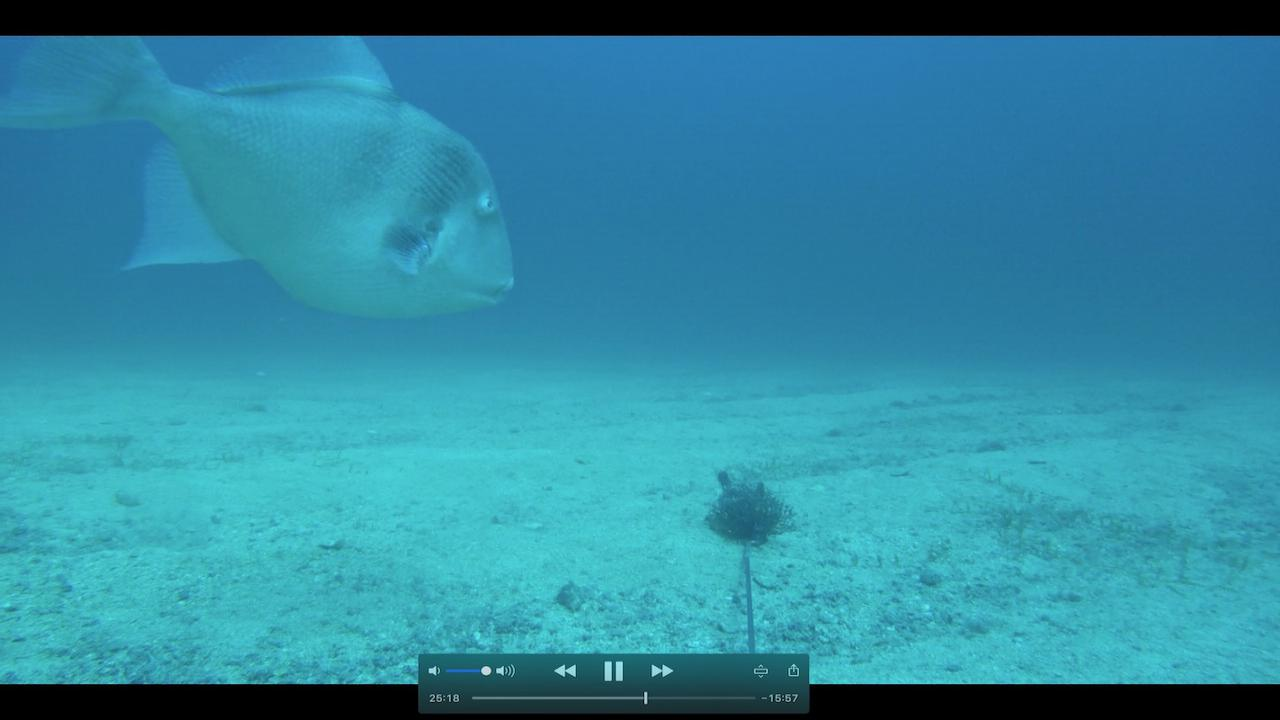balistes: (13, 36, 521, 329)
